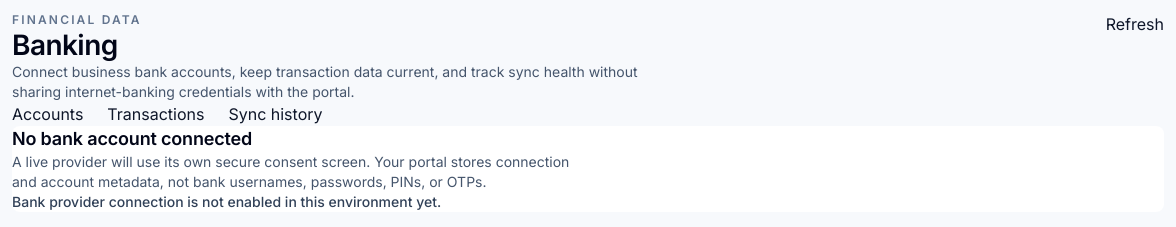
does not expose raw sync diagnostics in history
The width and height of the screenshot is (1176, 227).
What coordinates should you click on to do the following:
click the button "Sync history"
I would click on:
 (275, 114)
Its box is [228,102,322,126].
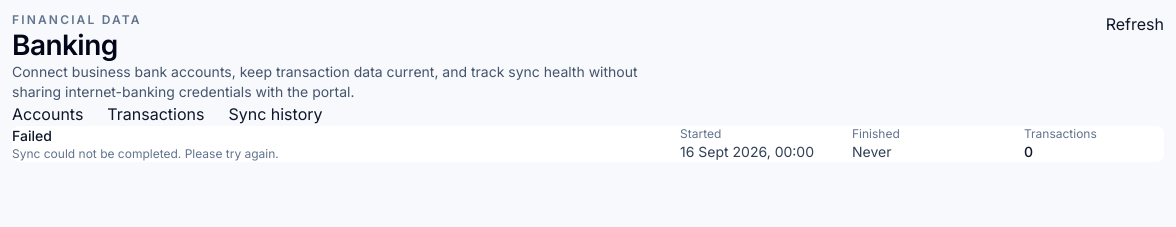
expect the text "Sync could not be completed. Please try again." is shown: met, box [12,146,279,161]
